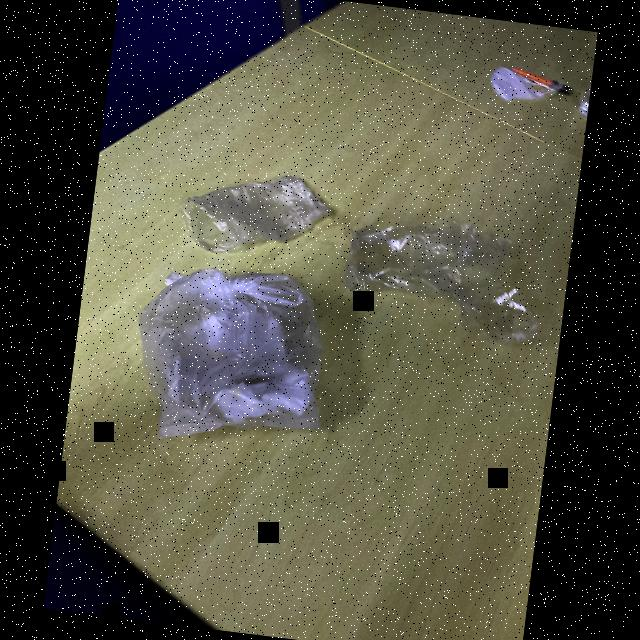plastic_bag: (124, 258, 338, 459), (339, 210, 544, 337), (175, 165, 336, 260)
scrap_plastic: (492, 58, 570, 114)
